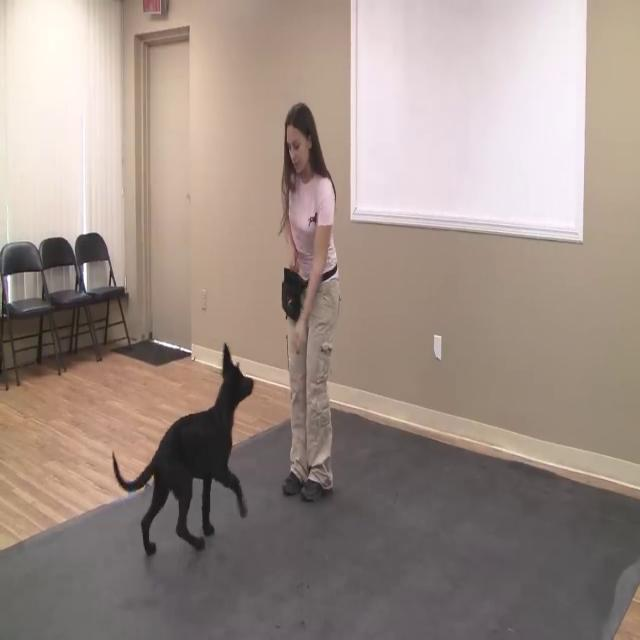Unleashed_Dog: (112, 285, 322, 556)
